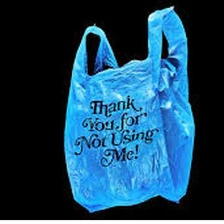plastic_bag: (60, 3, 205, 215)
